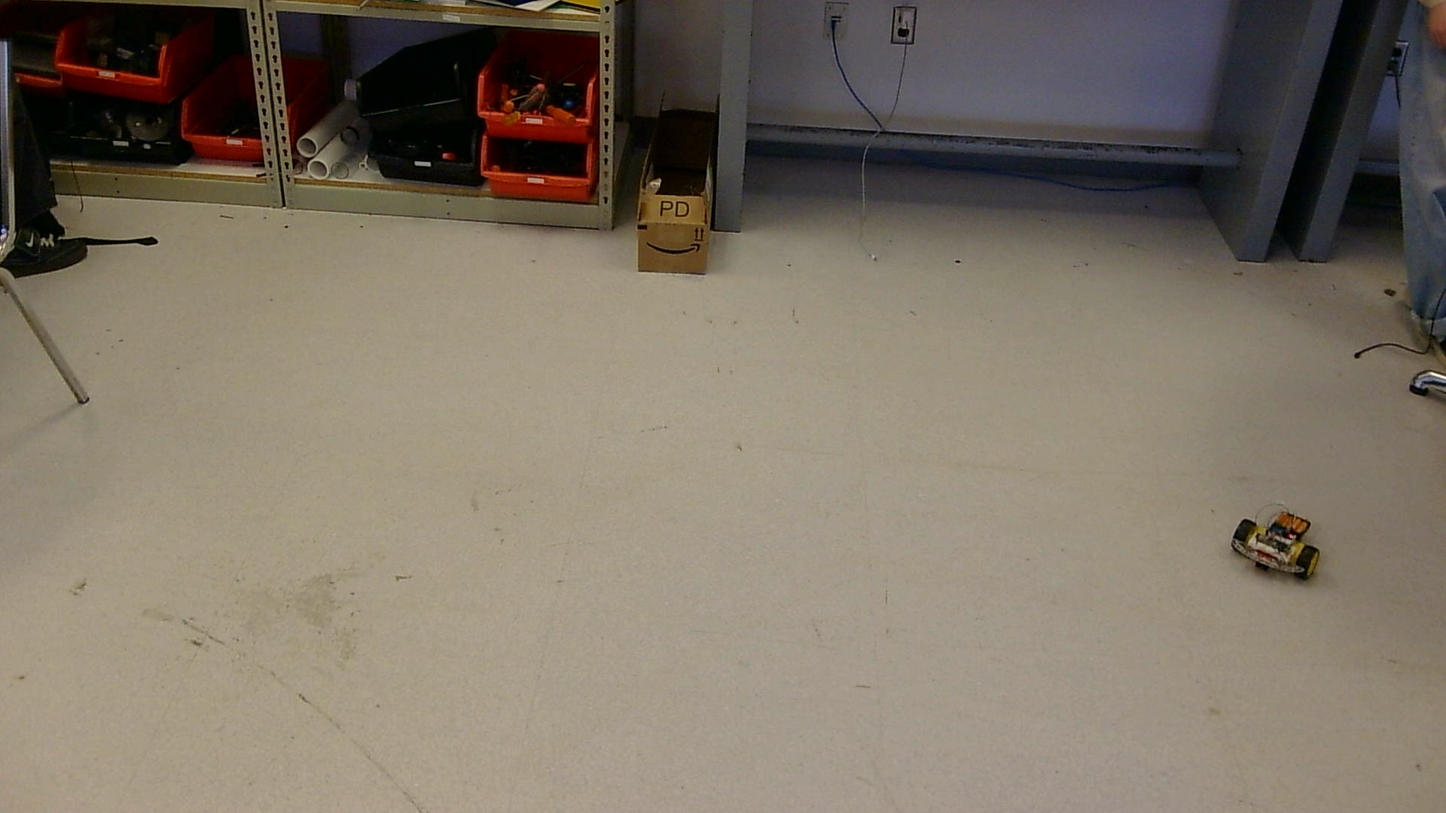robot: (1231, 510, 1319, 580)
